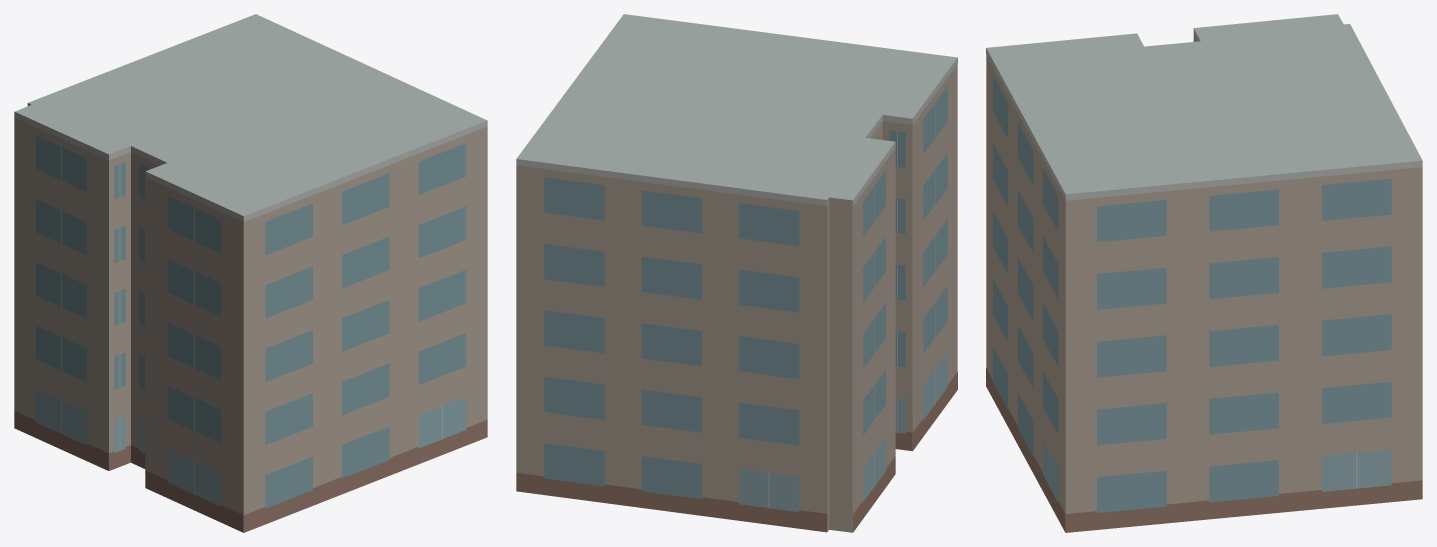
File: survey-upis-32623253.glb
3 renders of one model, left to right at view 1: azimuth 30°, elevation 25°; view 2: azimuth 150°, elevation 25°; view 3: azimuth 270°, elevation 25°, orthographic. The views are drawn at different scales.
Parts seen in each view (by area): view 1: survey-upis-32623253.tmp; view 2: survey-upis-32623253.tmp; view 3: survey-upis-32623253.tmp.
Part boxes in pixels (bbox=[...]): survey-upis-32623253.tmp: bbox=[14, 14, 487, 532]; survey-upis-32623253.tmp: bbox=[516, 14, 957, 532]; survey-upis-32623253.tmp: bbox=[986, 14, 1422, 532].
Size of the model in its own units: 14.87 by 13 by 15.21.
